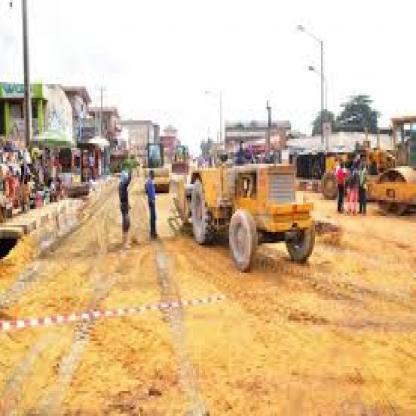car: (170, 156, 325, 284)
